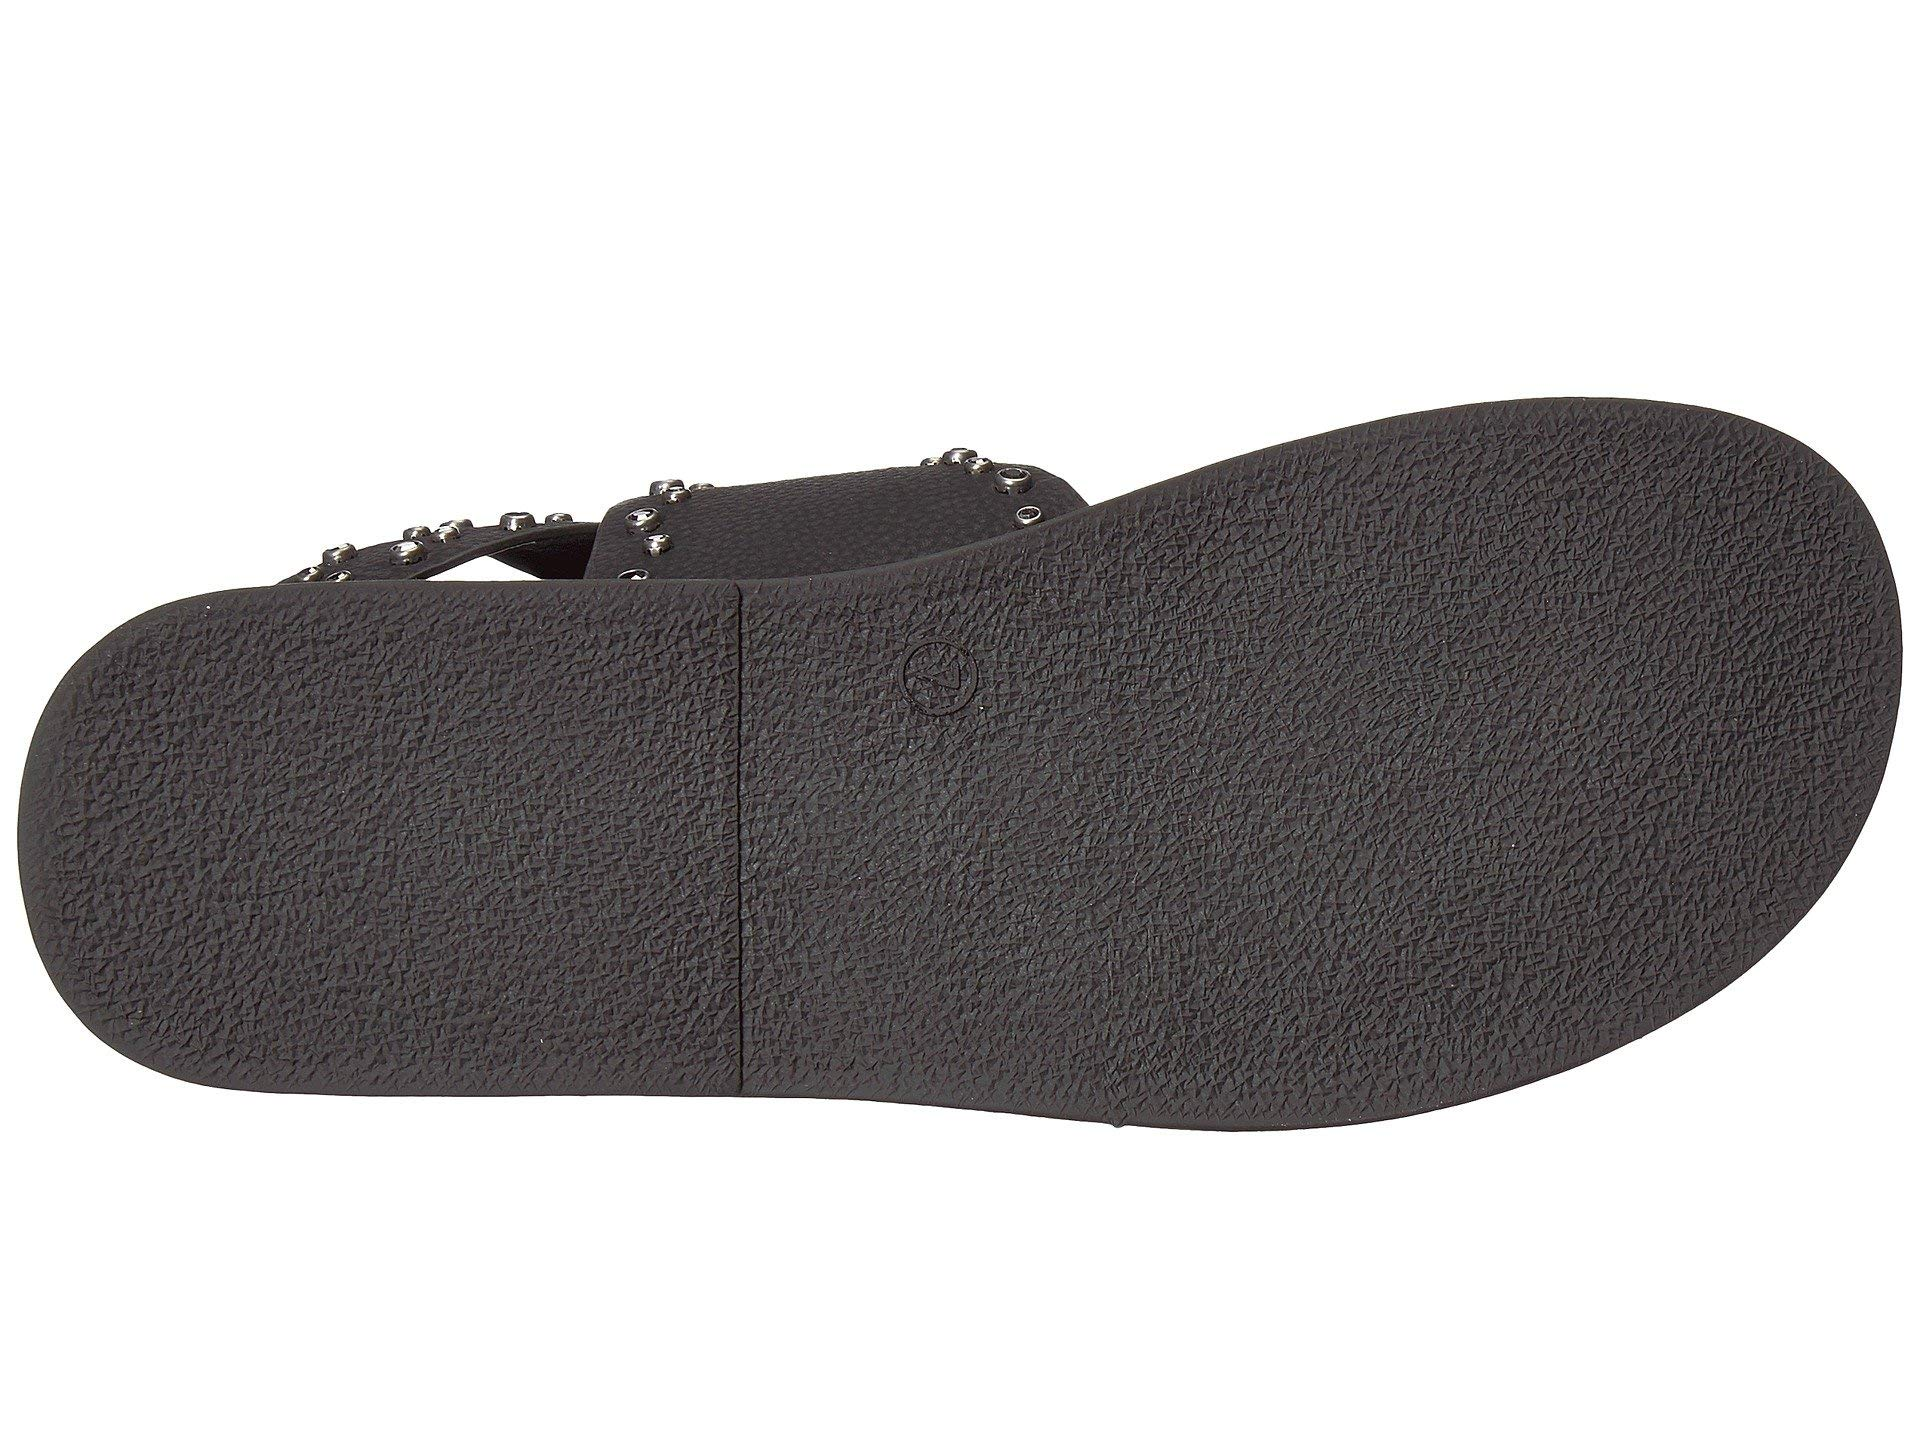circle: (889, 628, 993, 720)
line: (682, 575, 791, 1106)
other: (1208, 532, 1686, 979)
text: (889, 628, 993, 720)
